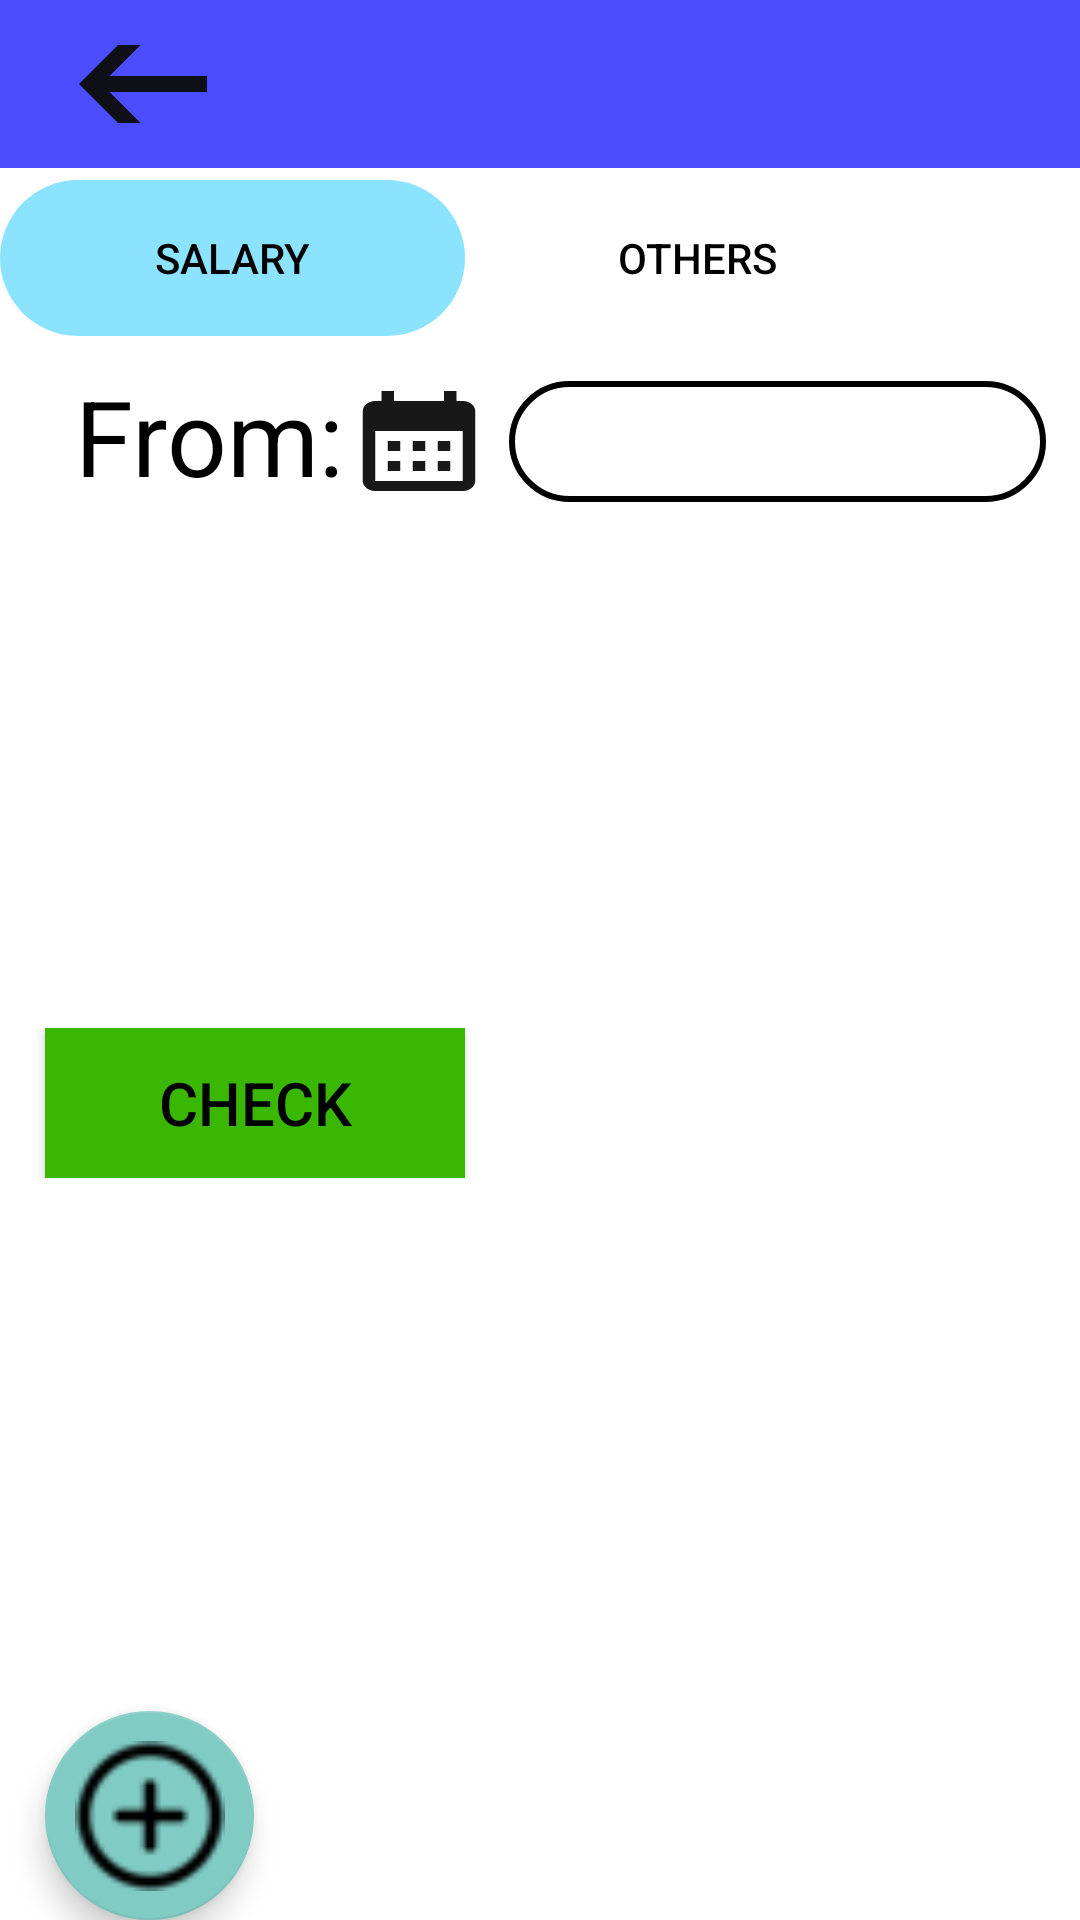

Point at icon controls on the screen. Image size 1080*1920, points as (x,y).
add product: (149,1815)
calendar: (419,441)
